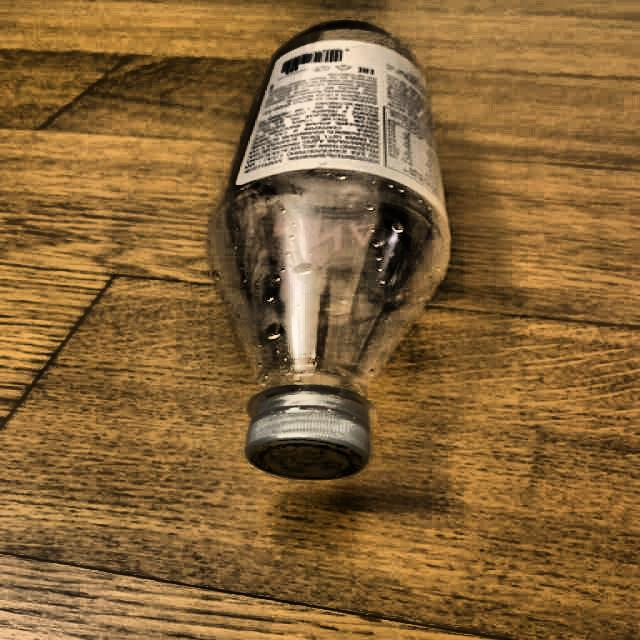plastic bottle: (212, 22, 450, 478)
